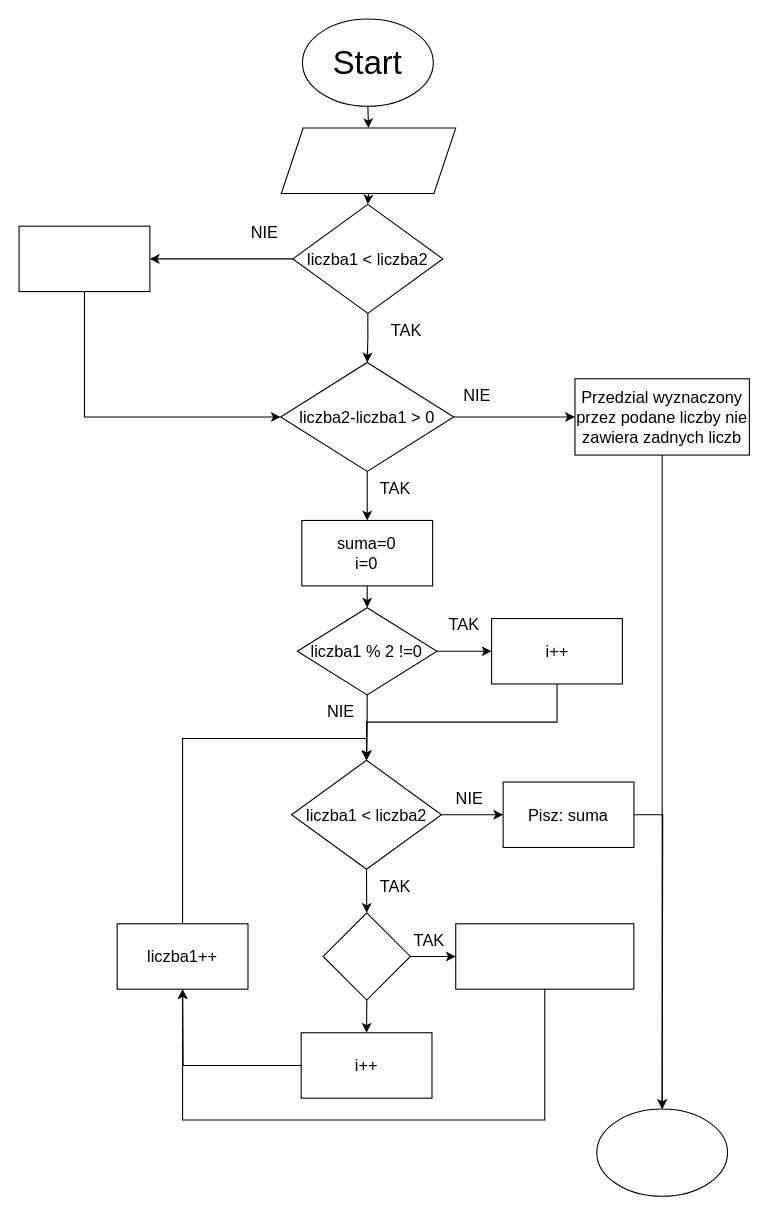
Image size: 768x1215. Some labels were removed from this diagram. The shapes that lost their labels are listed below. From the top down, each one's centre as x and y in pixels, then its label:
At (x=368, y=160): "Czytaj: liczba1 i liczba2".
At (x=84, y=258): "x=liczba1 liczba1=liczba2 liczba2=x".
At (x=366, y=956): "i==1".
At (x=544, y=956): "suma=suma+liczba1 i--".
At (x=662, y=1152): "Stop".
